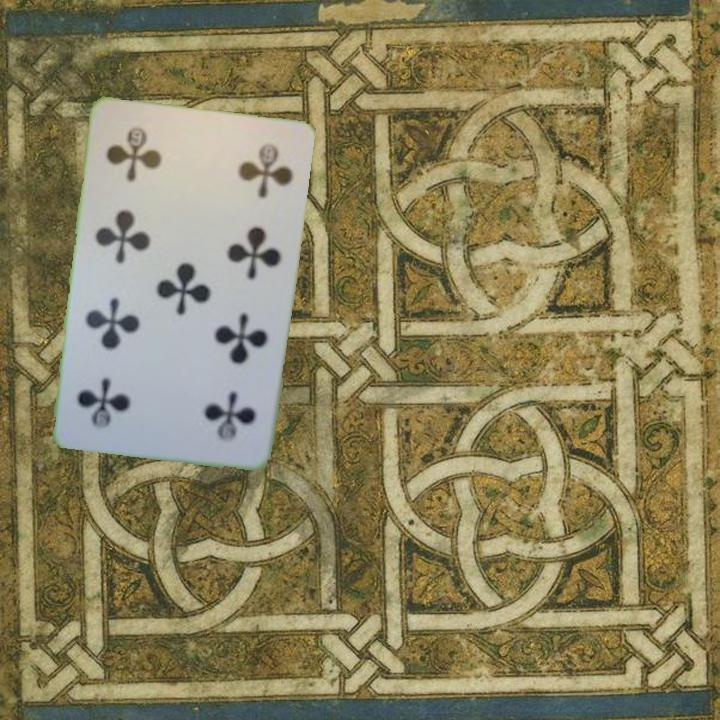c_9.png: (160, 358, 269, 455), (96, 113, 205, 210)
